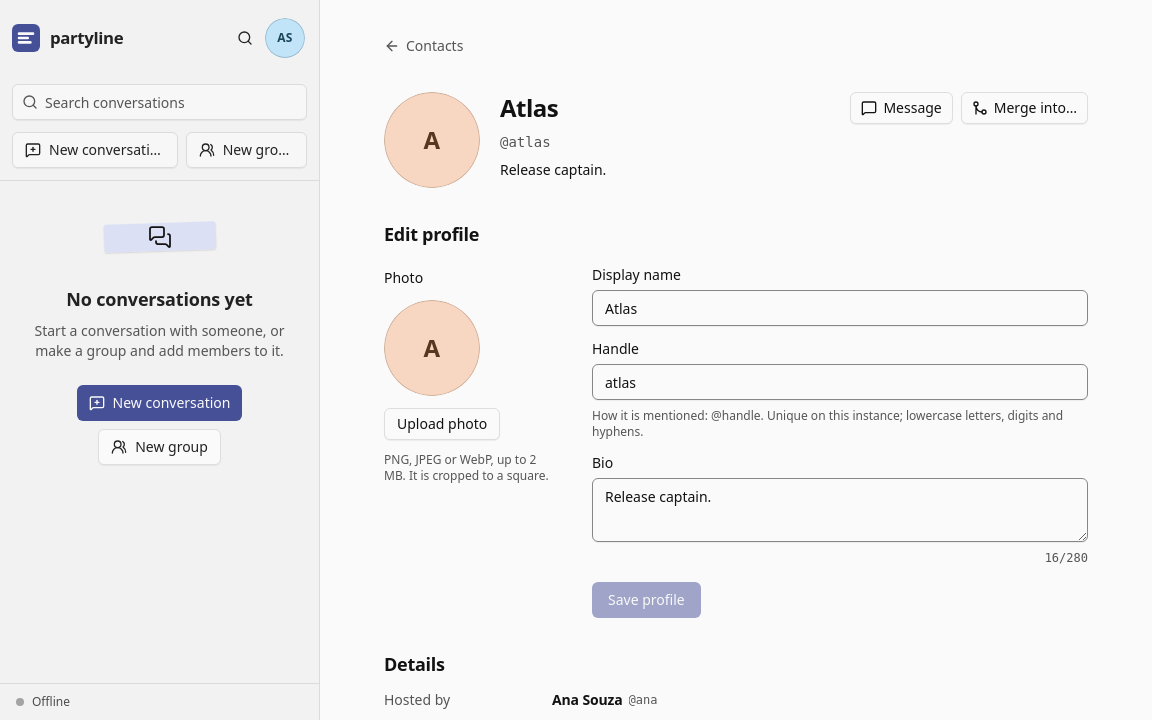
Test: editing a profile (PROF-03, PROF-05) › sends only the field that changed
Replace the text in the text box labelled "Bio" with "Shipping.": (840, 510) [592, 478, 1088, 542]
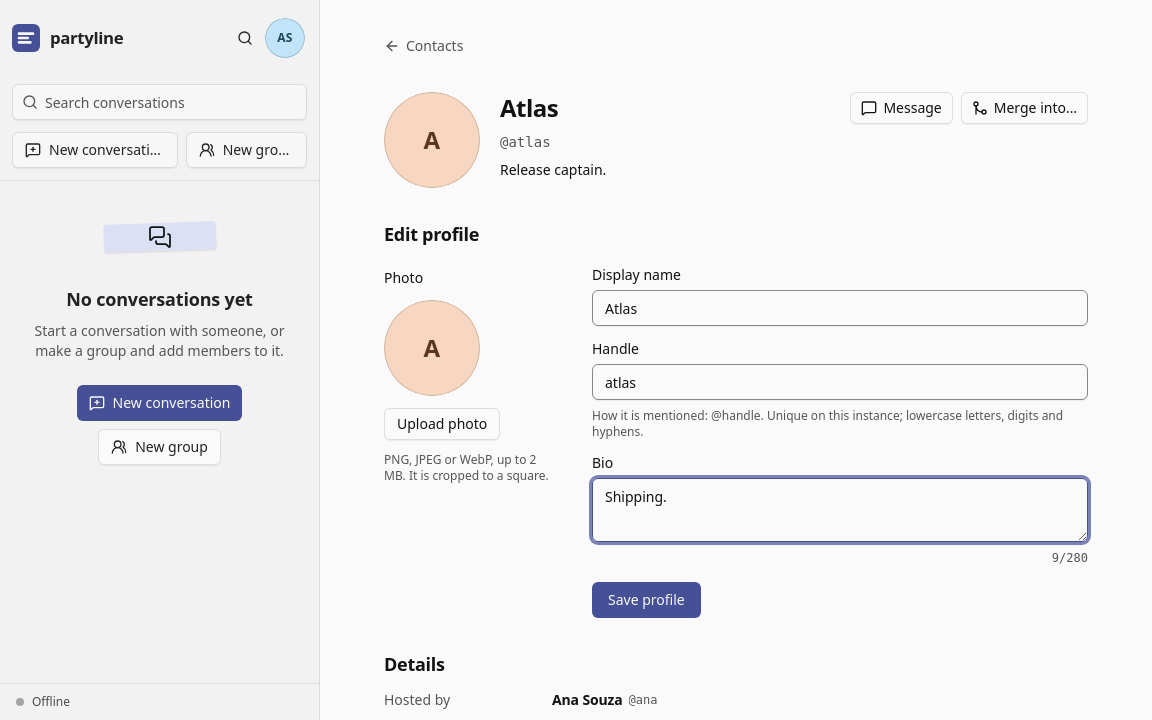
Click the button "Save profile": (646, 600) [592, 582, 701, 618]
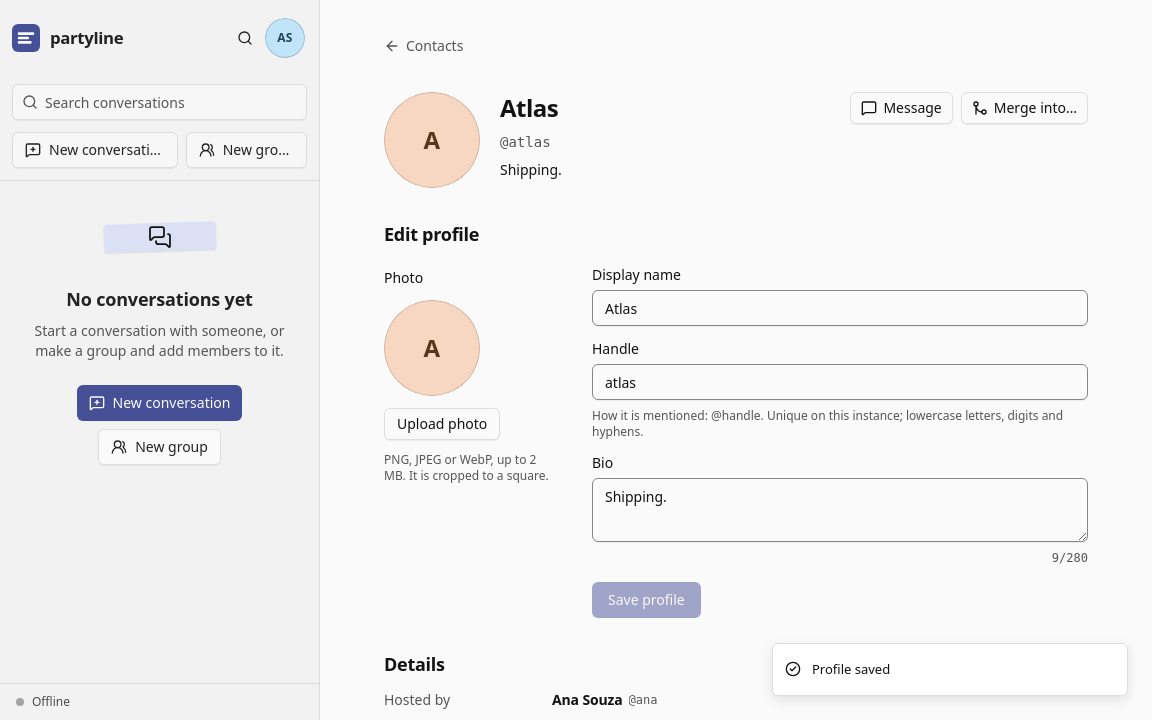
Expected: the text "Profile saved" is shown, [812, 660, 890, 679]
